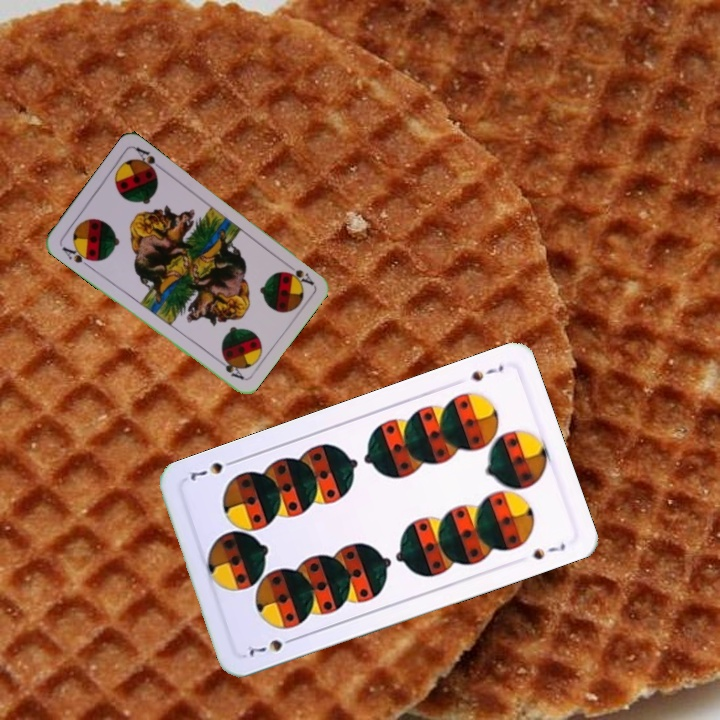S7: (243, 633, 299, 658), (466, 361, 506, 384)
SA: (58, 242, 96, 270), (281, 258, 316, 288)
